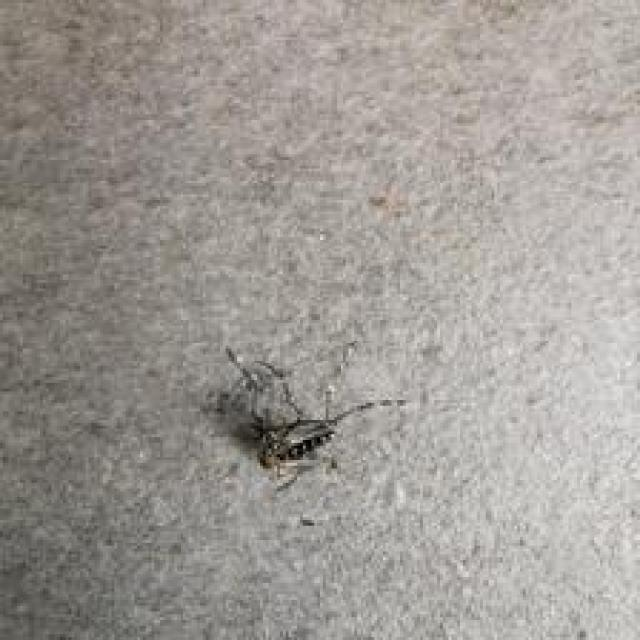Aedes albopictus: (207, 338, 407, 493)
